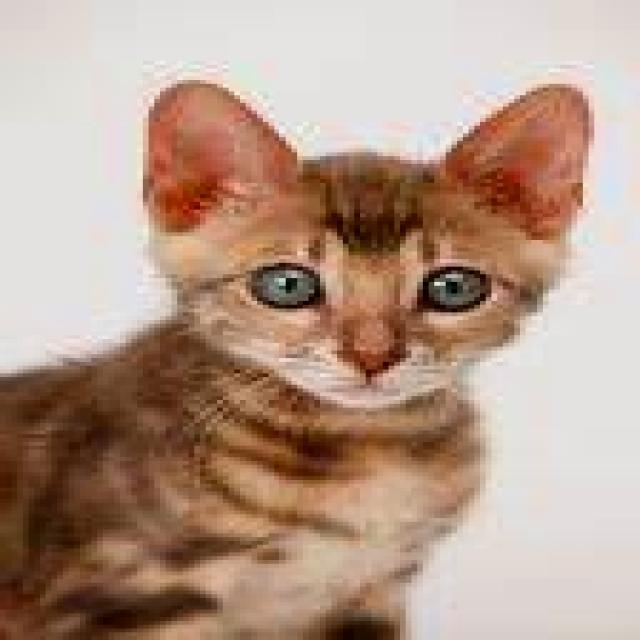KEDI: (0, 76, 635, 640)
